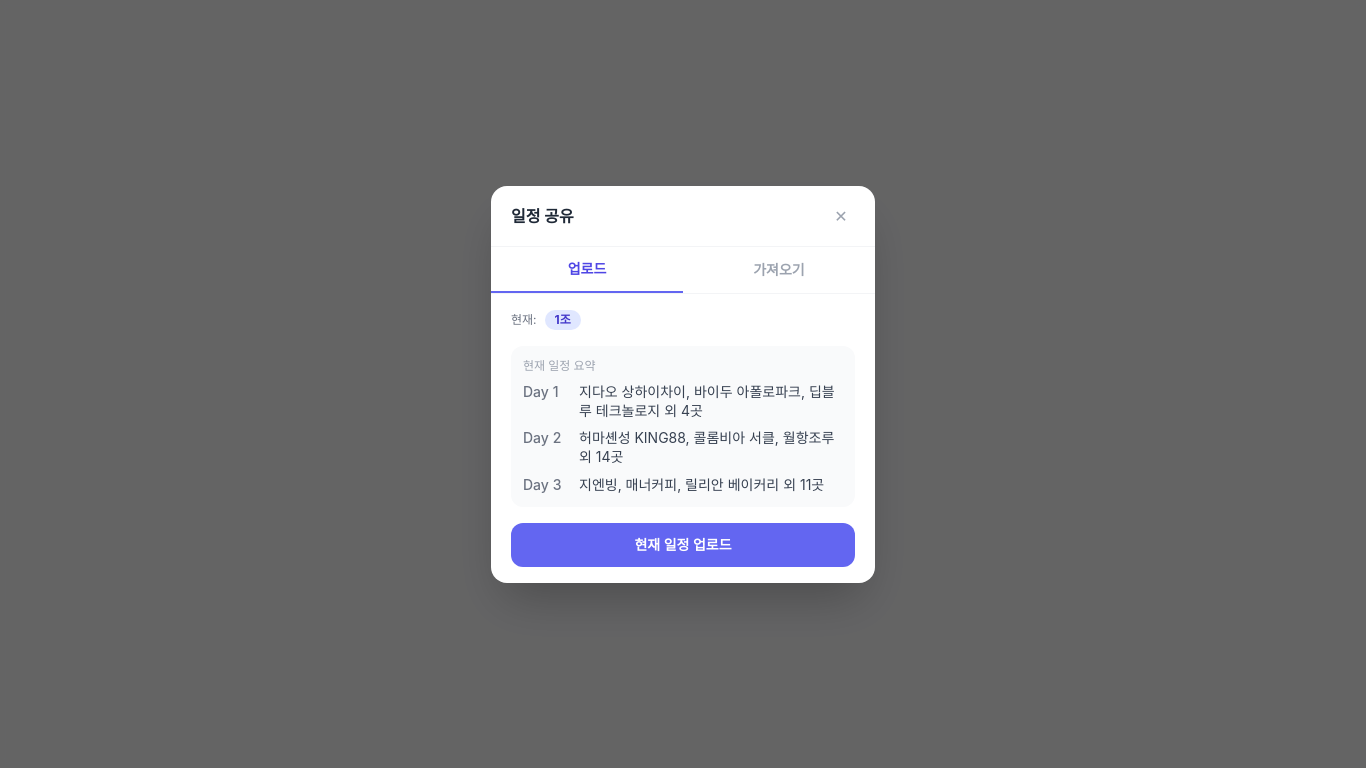
Test: ShareScheduleModal 컴포넌트 › DB 미설정 시 503 응답에서 준비 중 메시지가 표시된다
Click the button "현재 일정 업로드" at (683, 544), box [511,522,855,566]
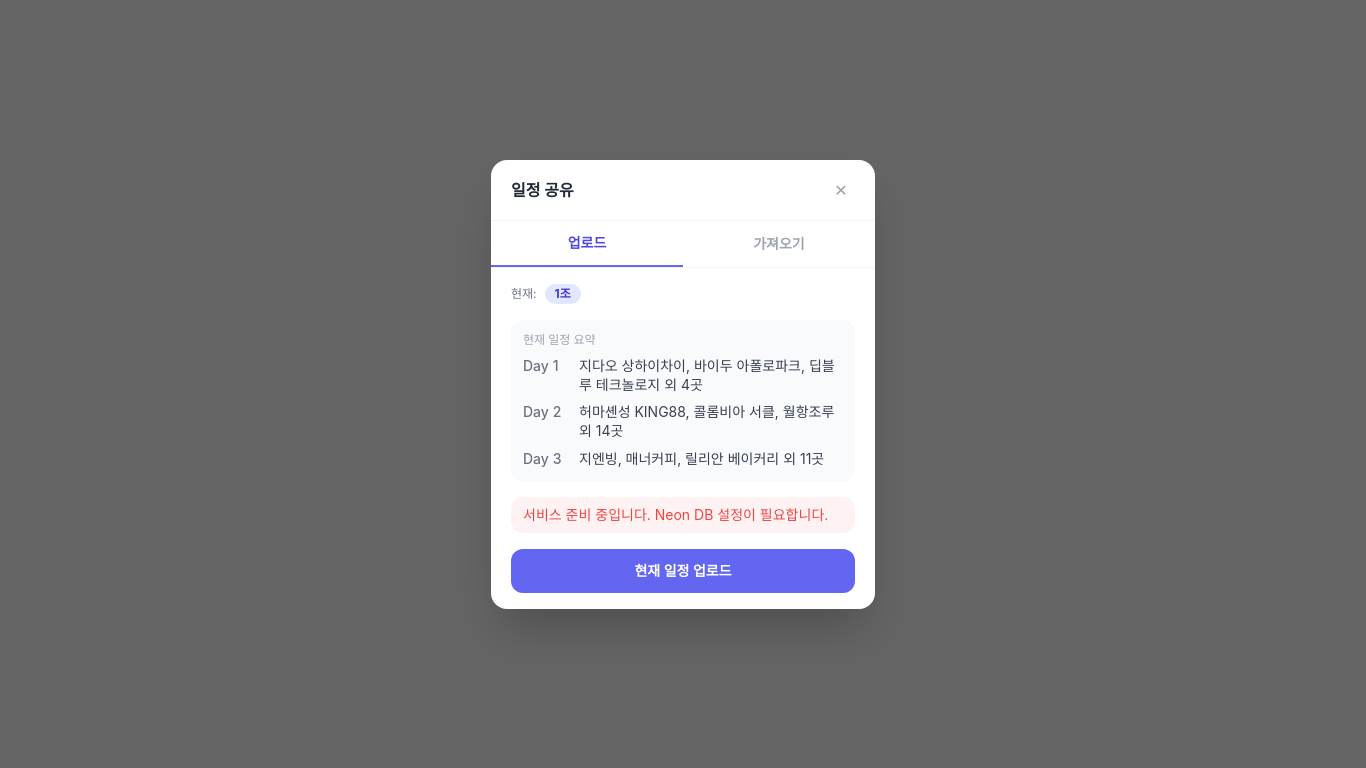
Now the text "서비스 준비 중입니다. Neon DB 설정이 필요합니다." is shown, box [511,496,855,532]
